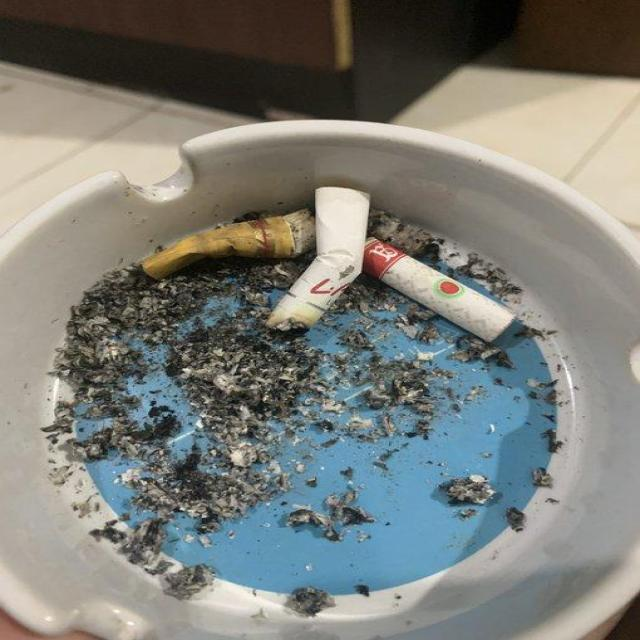rokok: (267, 178, 385, 338), (361, 234, 524, 348), (130, 199, 312, 293)
